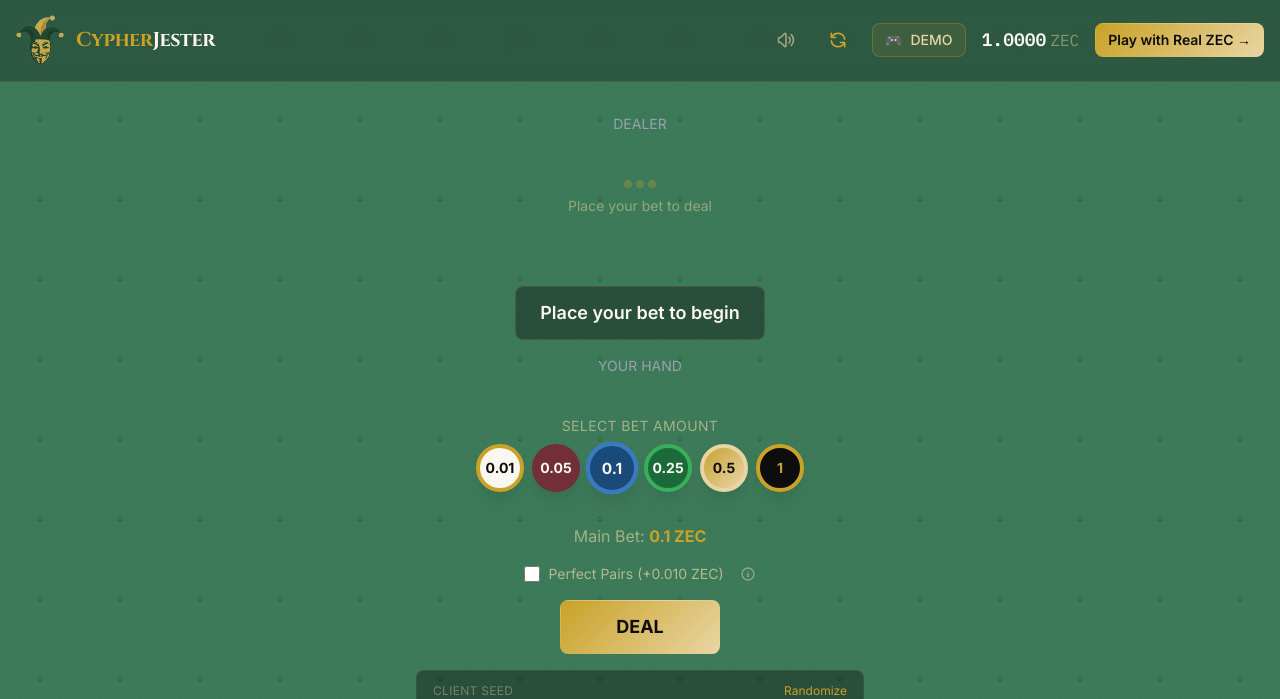
BlackjackGame auto-bet timers › cleans up pending auto-bet timer on unmount to avoid extra game starts
Step 1. Click the button "DEAL" → (640, 628), box x1=560 y1=600 x2=720 y2=654
(page scrolled)
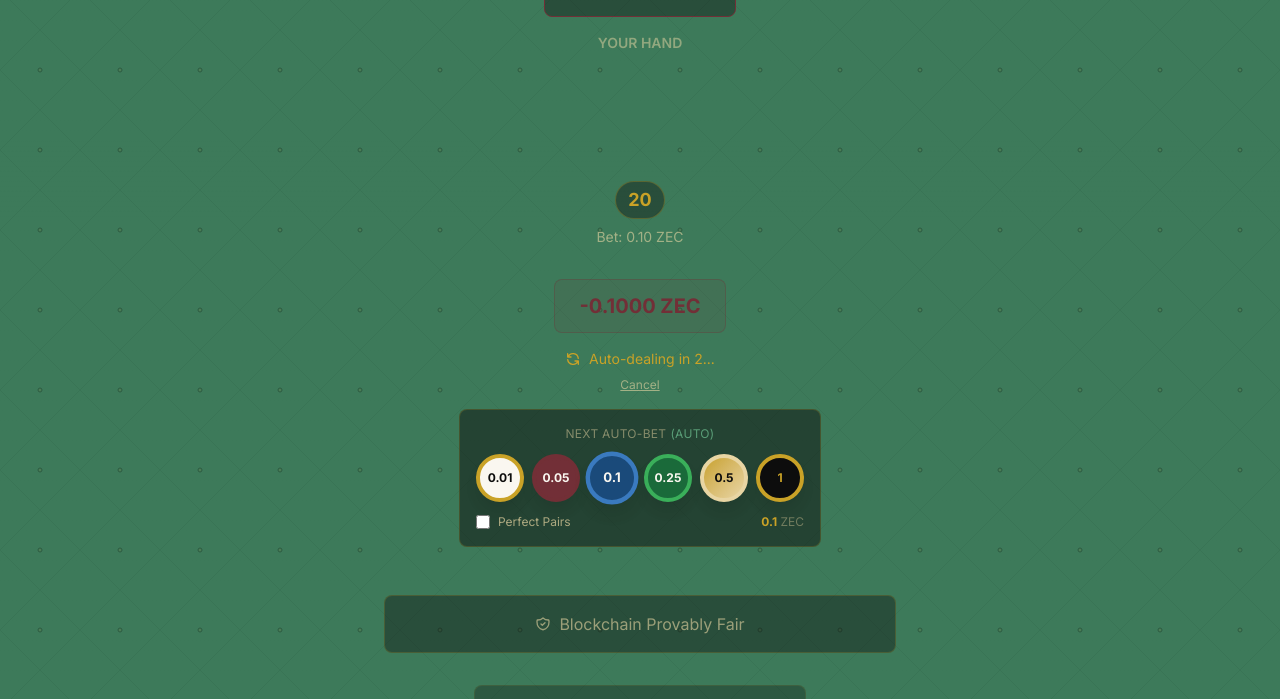
Now the text "Auto-dealing in 2..." is shown, box x1=565 y1=350 x2=715 y2=370
